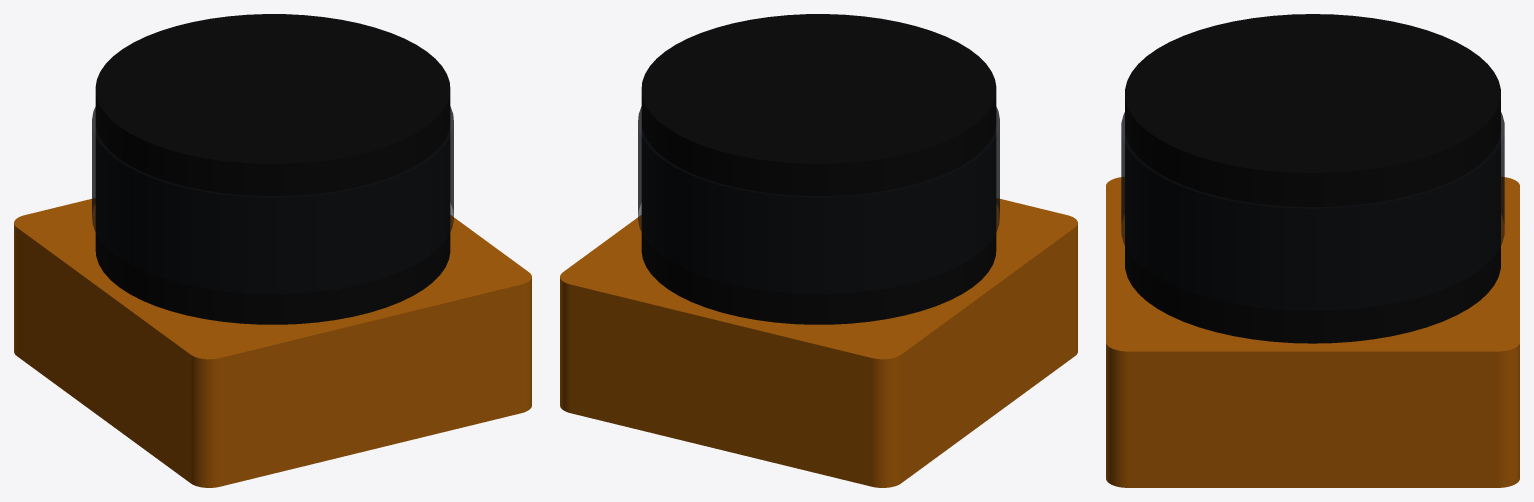
File: laser_scanner.glb
The picture shows the model from 3 angles, left to right: view 1: azimuth 30°, elevation 25°; view 2: azimuth 150°, elevation 25°; view 3: azimuth 270°, elevation 25°; orthographic projection. The views are drawn at different scales.
Visible parts, largest first — view 1: laser_scanner; view 2: laser_scanner; view 3: laser_scanner.
Boxes of the visible parts, x1,y1,x2,y2 form: laser_scanner: [14, 14, 531, 487]; laser_scanner: [560, 14, 1077, 487]; laser_scanner: [1106, 14, 1519, 487].
Size of the model in its own units: 0.11 by 0.09 by 0.11.
